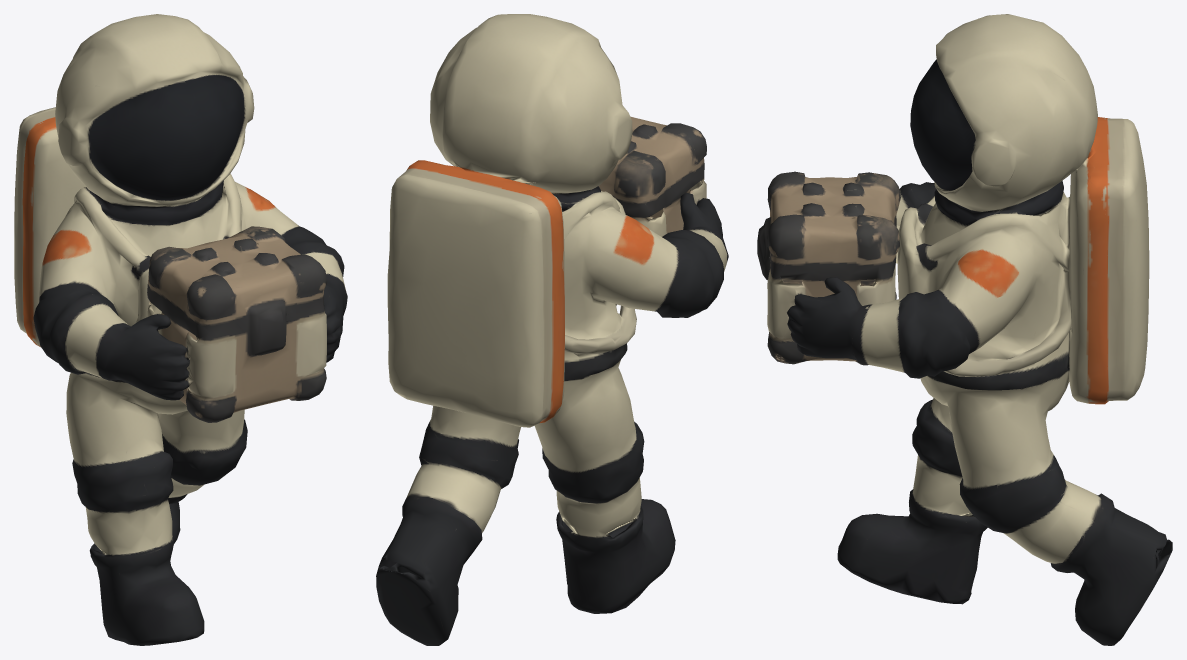
The model's file is figura-neset.glb.
3 renders of one model, left to right at view 1: azimuth 30°, elevation 25°; view 2: azimuth 150°, elevation 25°; view 3: azimuth 270°, elevation 25°, orthographic. The views are drawn at different scales.
Visible parts, largest first — view 1: geometry_0; view 2: geometry_0; view 3: geometry_0.
Boxes of the visible parts, x1=… form: geometry_0: x1=14, y1=14, x2=347, y2=645; geometry_0: x1=376, y1=14, x2=728, y2=645; geometry_0: x1=757, y1=14, x2=1172, y2=645.
Size of the model in its own units: 0.5267 by 0.9983 by 0.6365.
1 material, 1 textured.
